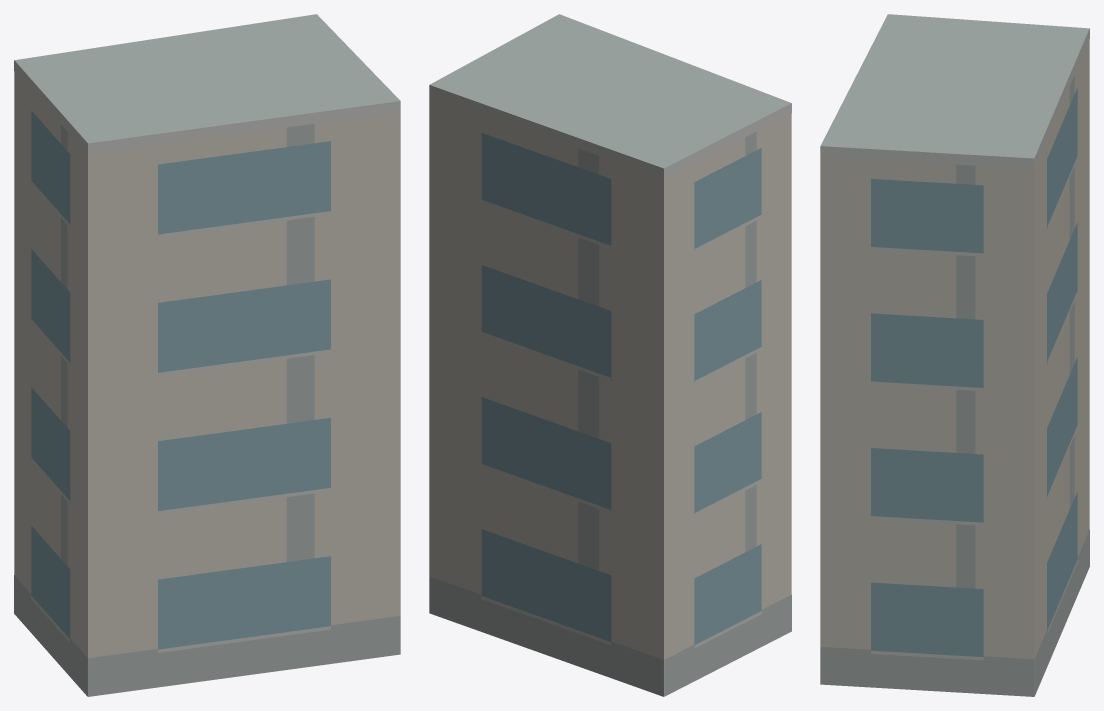
Rendered from survey-upis-32910084.glb.
The picture shows the model from 3 angles, left to right: view 1: azimuth 30°, elevation 25°; view 2: azimuth 150°, elevation 25°; view 3: azimuth 270°, elevation 25°; orthographic projection. The views are drawn at different scales.
Parts seen in each view (by area): view 1: survey-upis-32910084.tmp; view 2: survey-upis-32910084.tmp; view 3: survey-upis-32910084.tmp.
Boxes of the visible parts, x1,y1,x2,y2 form: survey-upis-32910084.tmp: (14,14,400,696); survey-upis-32910084.tmp: (429,14,791,696); survey-upis-32910084.tmp: (820,14,1089,696).
Size of the model in its own units: 7.03 by 12.2 by 5.54.
